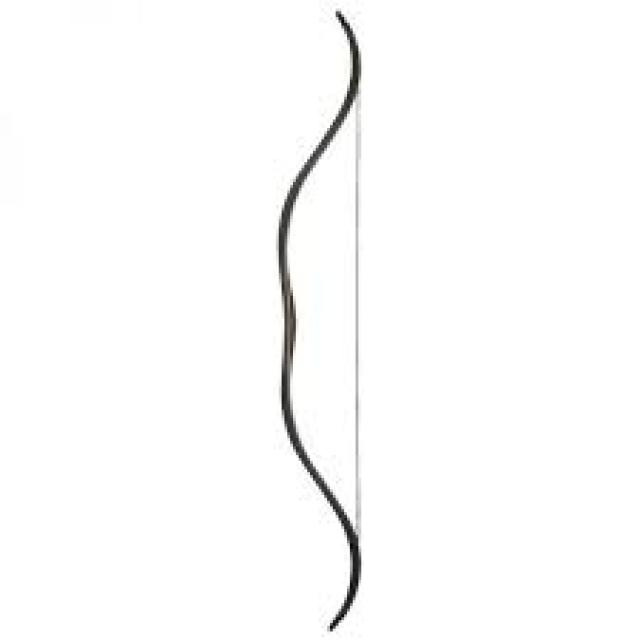X-Bow: (272, 14, 370, 622)
